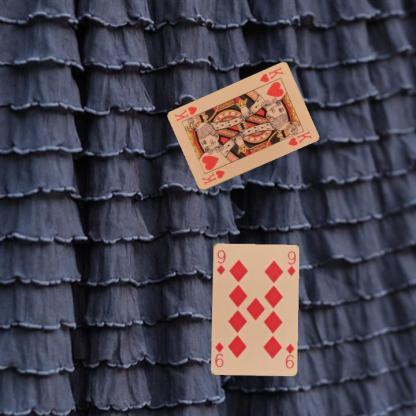9d: (214, 247, 226, 276), (283, 341, 295, 370)
Kh: (257, 64, 285, 84), (199, 168, 226, 186)
